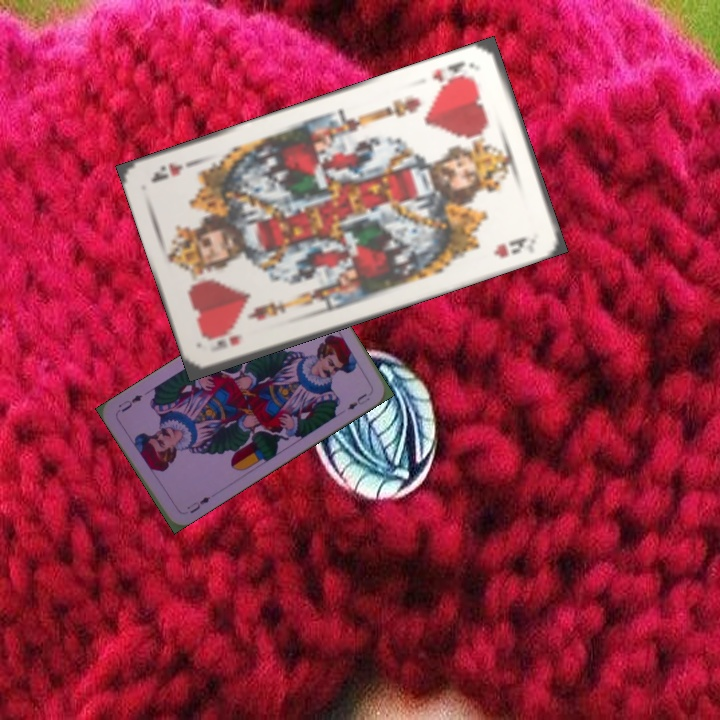EU: (183, 492, 213, 516)
HK: (428, 57, 478, 90), (207, 330, 243, 355)
